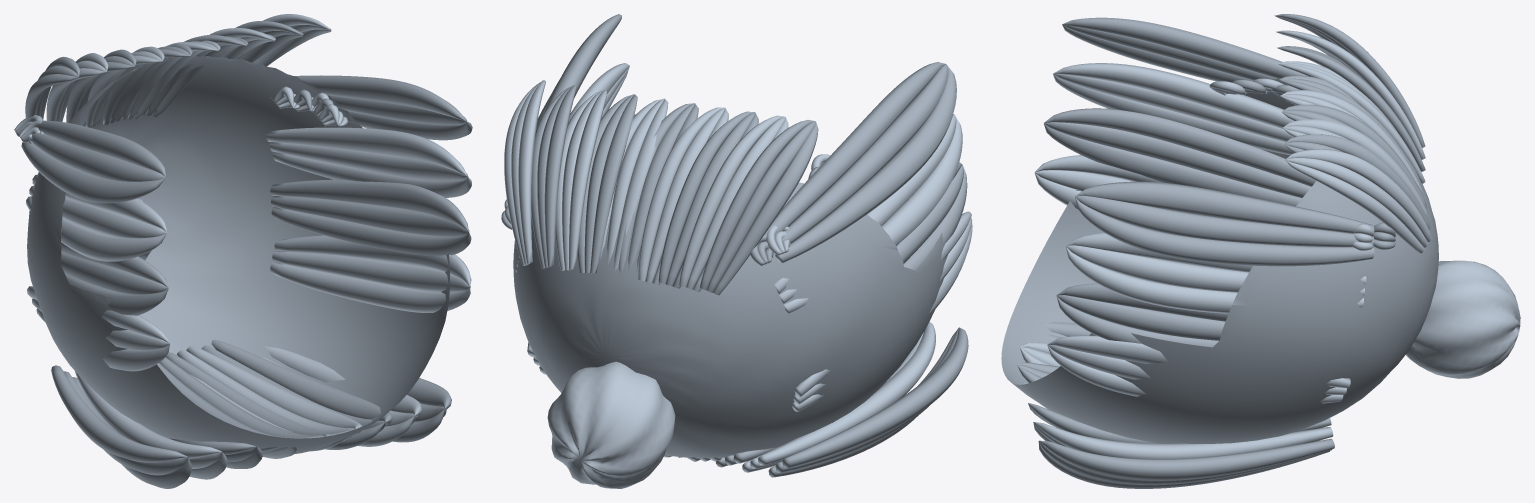
3 renders of one model, left to right at view 1: azimuth 30°, elevation 25°; view 2: azimuth 150°, elevation 25°; view 3: azimuth 270°, elevation 25°, orthographic. The views are drawn at different scales.
Visible parts, largest first — view 1: CrownHair_ref14, SideHair_1_2_Strand2, SideHair_1_1_Strand2, SideHair_1_3_Strand0, SideHair_1_3_Strand1, SideHair_1_2_Strand0, SideHair_1_2_Strand1, BackHair_06_Strand2, SideHair_1_0_Strand2, SideHair_-1_0_Strand2, SideHair_1_1_Strand1, BackHair_00_Strand0 (+46 smaller); view 2: CrownHair_ref14, Hair_TopBun, SideHair_-1_0_Strand2, SideHair_-1_0_Strand0, SideHair_-1_0_Strand1, BackHair_00_Strand0, BackHair_01_Strand0, SideHair_-1_1_Strand2, FrontHair_00_Strand2, FrontHair_00_Strand0, FrontHair_01_Strand0, FrontHair_00_Strand1 (+32 smaller); view 3: CrownHair_ref14, Hair_TopBun, SideHair_1_0_Strand2, SideHair_1_0_Strand0, SideHair_1_0_Strand1, BackHair_08_Strand2, SideHair_-1_2_Strand0, SideHair_-1_2_Strand1, SideHair_-1_1_Strand0, SideHair_-1_2_Strand2, SideHair_-1_0_Strand0, BackHair_07_Strand2 (+31 smaller).
Boxes of the visible parts, x1,y1,x2,y2 form: CrownHair_ref14: (27, 56, 450, 456); SideHair_1_2_Strand2: (270, 179, 468, 231); SideHair_1_1_Strand2: (266, 127, 467, 176); SideHair_1_3_Strand0: (270, 262, 470, 312); SideHair_1_3_Strand1: (272, 251, 470, 292); SideHair_1_2_Strand0: (271, 207, 471, 255); SideHair_1_2_Strand1: (271, 196, 469, 236); BackHair_06_Strand2: (211, 340, 392, 425); SideHair_1_0_Strand2: (294, 75, 465, 121); SideHair_-1_0_Strand2: (21, 142, 165, 203); SideHair_1_1_Strand1: (269, 142, 468, 181); BackHair_00_Strand0: (51, 365, 187, 462); CrownHair_ref14: (513, 182, 947, 457); Hair_TopBun: (547, 361, 675, 488); SideHair_-1_0_Strand2: (775, 65, 956, 262); SideHair_-1_0_Strand0: (764, 62, 945, 236); SideHair_-1_0_Strand1: (774, 64, 948, 253); BackHair_00_Strand0: (782, 327, 968, 468); BackHair_01_Strand0: (758, 322, 935, 465); SideHair_-1_1_Strand2: (783, 115, 962, 313); FrontHair_00_Strand2: (713, 121, 818, 295); FrontHair_00_Strand0: (700, 120, 814, 290); FrontHair_01_Strand0: (679, 115, 784, 287); FrontHair_00_Strand1: (707, 121, 815, 292); CrownHair_ref14: (1001, 76, 1438, 443); Hair_TopBun: (1406, 260, 1520, 378); SideHair_1_0_Strand2: (1075, 181, 1374, 233); SideHair_1_0_Strand0: (1075, 197, 1374, 266); SideHair_1_0_Strand1: (1075, 195, 1374, 246); BackHair_08_Strand2: (1039, 438, 1334, 480); SideHair_-1_2_Strand0: (1044, 108, 1316, 186); SideHair_-1_2_Strand1: (1044, 122, 1311, 197); SideHair_-1_1_Strand0: (1053, 63, 1294, 128); SideHair_-1_2_Strand2: (1044, 123, 1301, 206); SideHair_-1_0_Strand0: (1062, 17, 1307, 78); BackHair_07_Strand2: (1034, 422, 1333, 459).
Size of the model in its own units: 0.6191 by 0.6059 by 0.7746.
